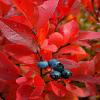Blueberry leaf: (0, 16, 42, 53), (10, 0, 42, 28), (1, 44, 39, 63), (34, 1, 57, 30), (61, 18, 79, 49), (49, 80, 68, 98), (73, 73, 99, 85), (14, 85, 36, 99)
